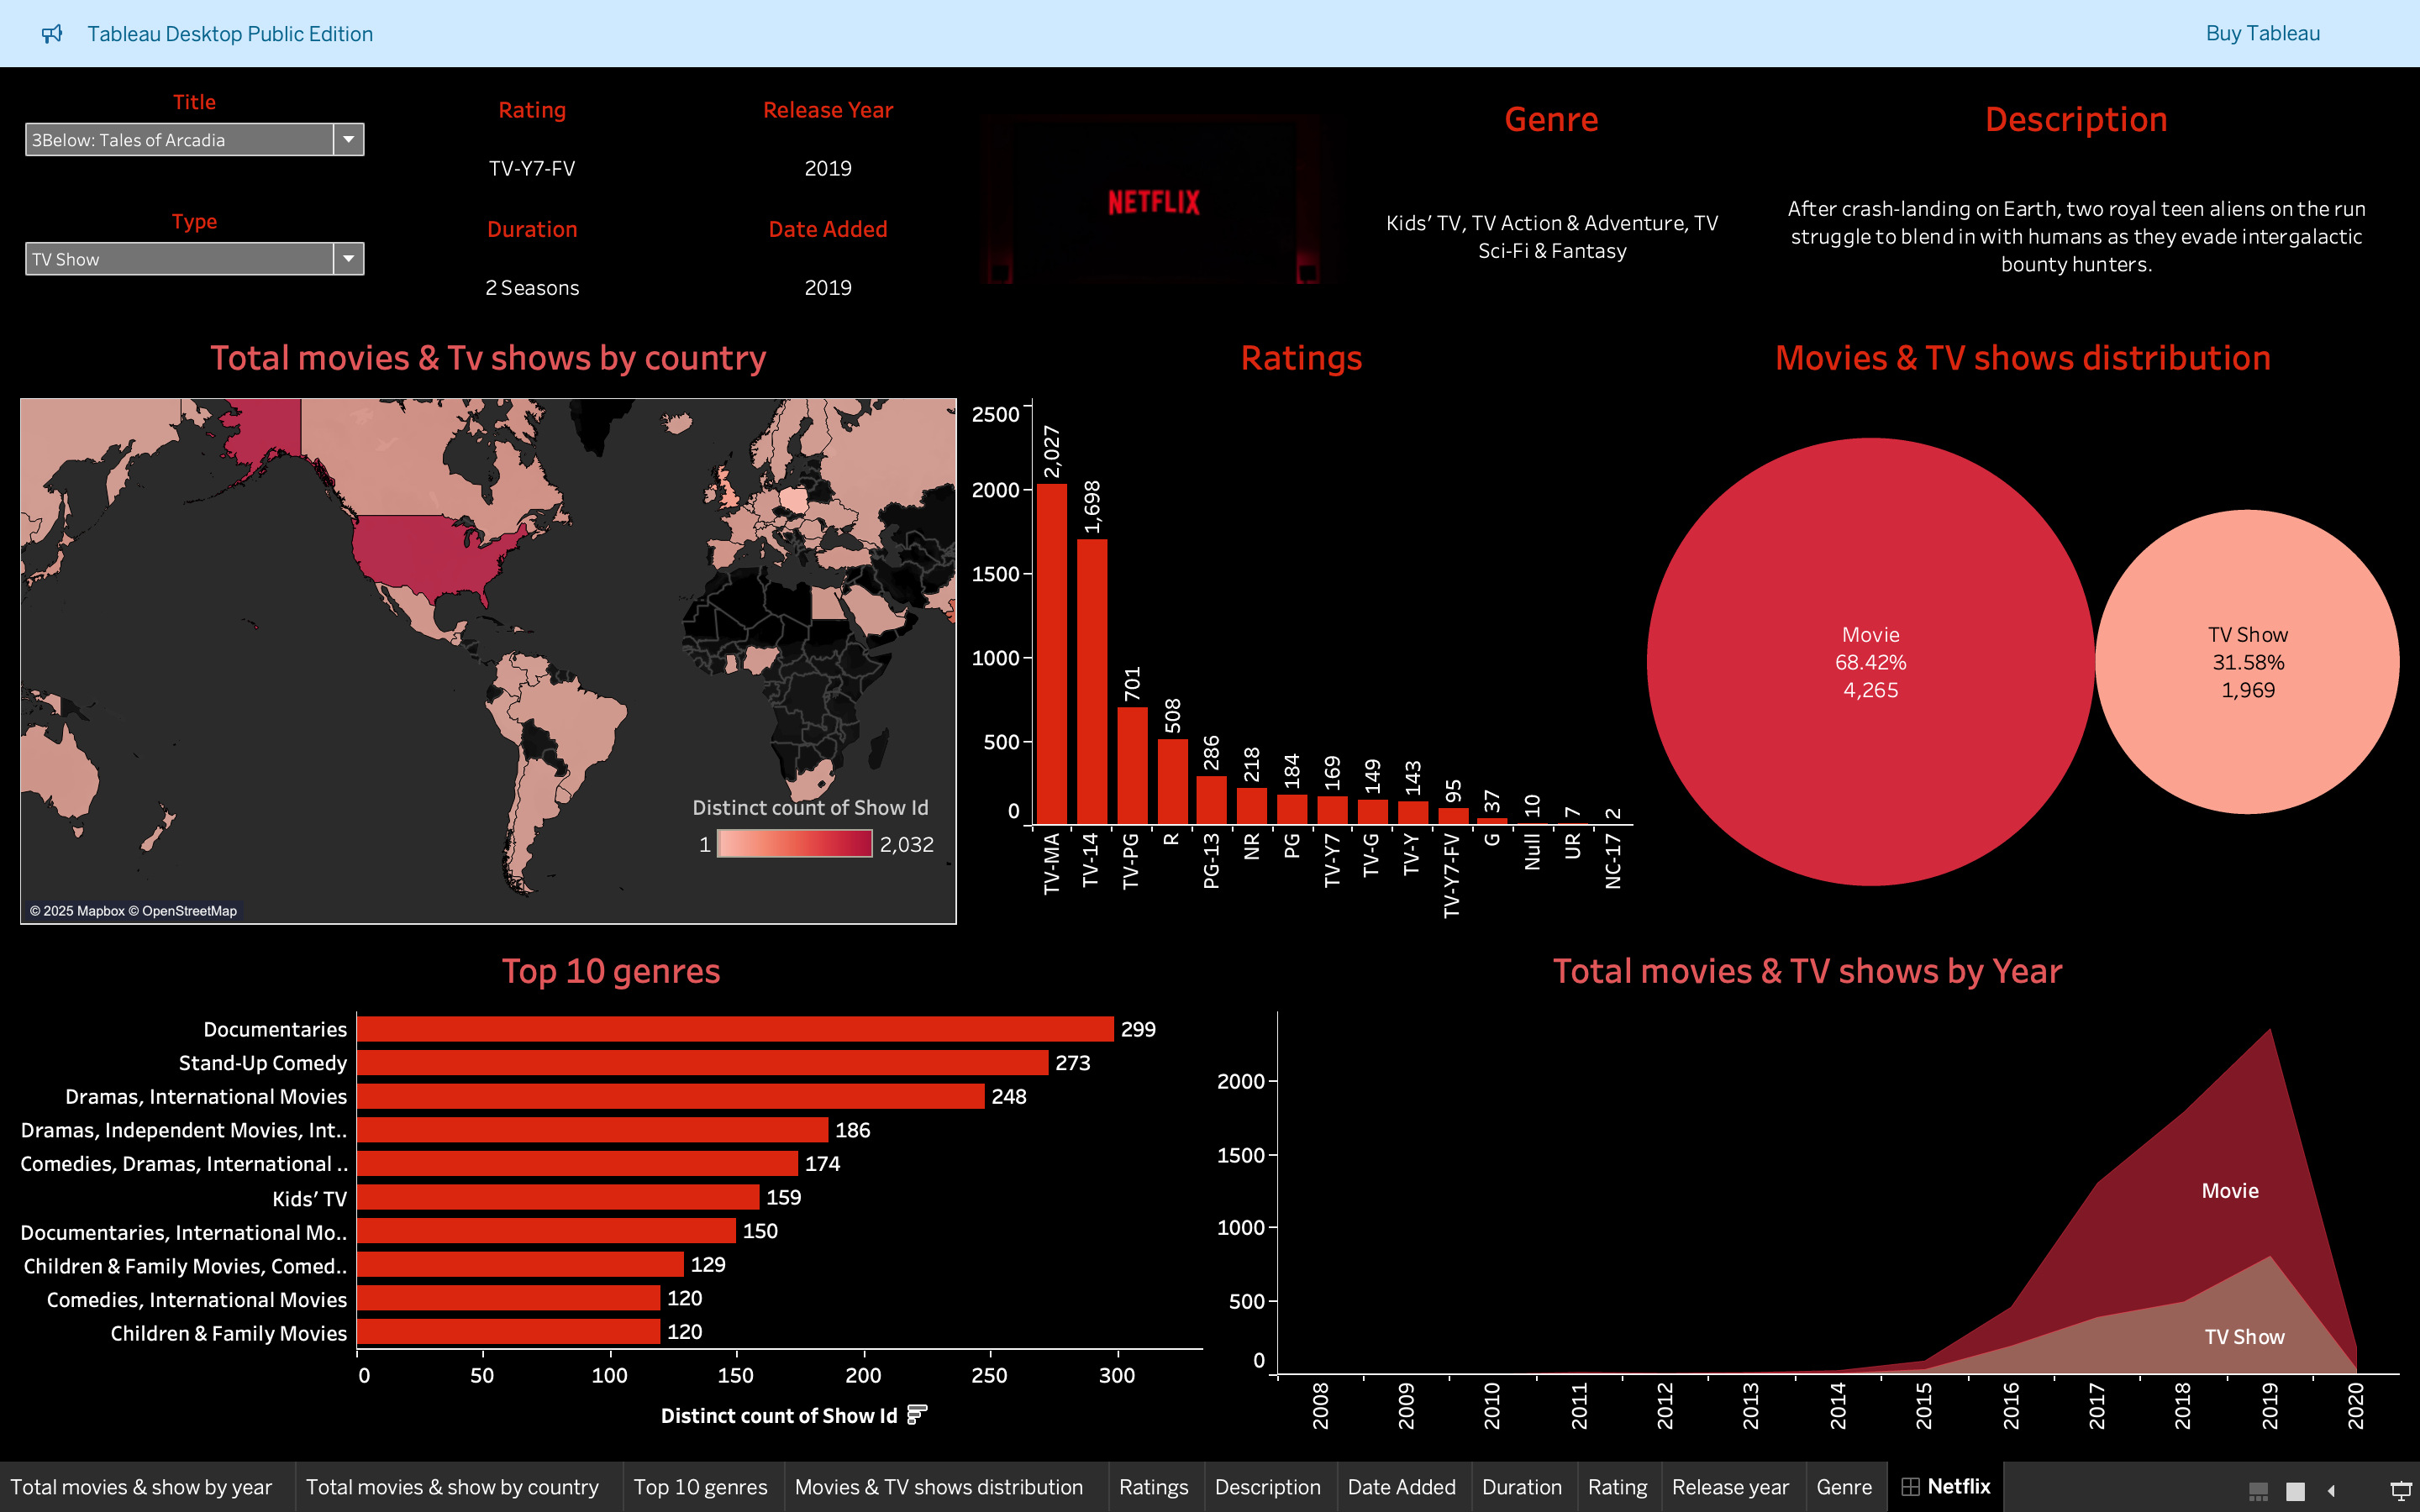

What the dashboard file says about the page in this screenshot:
{"tool":"tableau","page":{"name":"Netflix","canvas":[1000,1000],"units":"permille","ordinal":0},"visuals":[{"type":"filter","title":"Description","param":"[federated.1h51m7q1sigtkj1gpxwc305ci4xj].[none:title:nk]","box":[5.6,9.6,150.3,85.6]},{"type":"worksheet","title":"Rating","mark":"Automatic","box":[155.9,9.6,129.4,85.6]},{"type":"worksheet","title":"Release year","mark":"Automatic","box":[285.3,9.6,113.6,85.6]},{"type":"image","param":"/Users/thanushikhapathmanathan/Documents/netflix.jpg","box":[398.9,9.6,161.6,171.3]},{"type":"worksheet","title":"Genre","mark":"Automatic","box":[560.6,9.6,161.6,171.3]},{"type":"worksheet","title":"Description","mark":"Automatic","box":[722.2,9.6,272.3,171.3]},{"type":"filter","title":"Description","param":"[federated.1h51m7q1sigtkj1gpxwc305ci4xj].[none:type:nk]","box":[5.6,95.3,150.3,85.6]},{"type":"worksheet","title":"Duration","mark":"Automatic","box":[155.9,95.3,129.4,85.6]},{"type":"worksheet","title":"Date Added","mark":"Automatic","box":[285.3,95.3,113.6,85.6]},{"type":"worksheet","title":"Total movies & show by country","mark":"Multipolygon","box":[5.6,180.9,393.4,440]},{"type":"worksheet","title":"Ratings","mark":"Automatic","rows":["show_id"],"cols":["rating"],"box":[398.9,180.9,278.9,440]},{"type":"worksheet","title":"Movies & TV shows distribution","mark":"Circle","box":[677.9,180.9,316.6,440]},{"type":"legend","title":"Total movies & show by country","param":"[federated.1h51m7q1sigtkj1gpxwc305ci4xj].[ctd:show_id:qk]","box":[285.8,520,103.3,88.3]},{"type":"worksheet","title":"Top 10 genres","mark":"Automatic","rows":["listed_in"],"cols":["show_id"],"box":[5.6,620.9,494.4,369.5]},{"type":"worksheet","title":"Total movies & show by year","mark":"Area","rows":["show_id"],"cols":["date_added"],"box":[500,620.9,494.5,369.5]}]}

Visuals, with their boxes on the dashboard's canvas, which has no fixed pixel size, in thousandths of its width and height (x1, y1, x2, y2). These are canvas units, not pixel positions in the 2420x1512 screenshot, which may show the page scaled, cropped or inside an application window:
"Description" filter: (x1=6, y1=10, x2=156, y2=95)
"Rating" worksheet: (x1=156, y1=10, x2=285, y2=95)
"Release year" worksheet: (x1=285, y1=10, x2=399, y2=95)
image: (x1=399, y1=10, x2=560, y2=181)
"Genre" worksheet: (x1=561, y1=10, x2=722, y2=181)
"Description" worksheet: (x1=722, y1=10, x2=994, y2=181)
"Description" filter: (x1=6, y1=95, x2=156, y2=181)
"Duration" worksheet: (x1=156, y1=95, x2=285, y2=181)
"Date Added" worksheet: (x1=285, y1=95, x2=399, y2=181)
"Total movies & show by country" worksheet (Multipolygon marks): (x1=6, y1=181, x2=399, y2=621)
"Ratings" worksheet: (x1=399, y1=181, x2=678, y2=621)
"Movies & TV shows distribution" worksheet (Circle marks): (x1=678, y1=181, x2=994, y2=621)
"Total movies & show by country" legend: (x1=286, y1=520, x2=389, y2=608)
"Top 10 genres" worksheet: (x1=6, y1=621, x2=500, y2=990)
"Total movies & show by year" worksheet (Area marks): (x1=500, y1=621, x2=994, y2=990)
